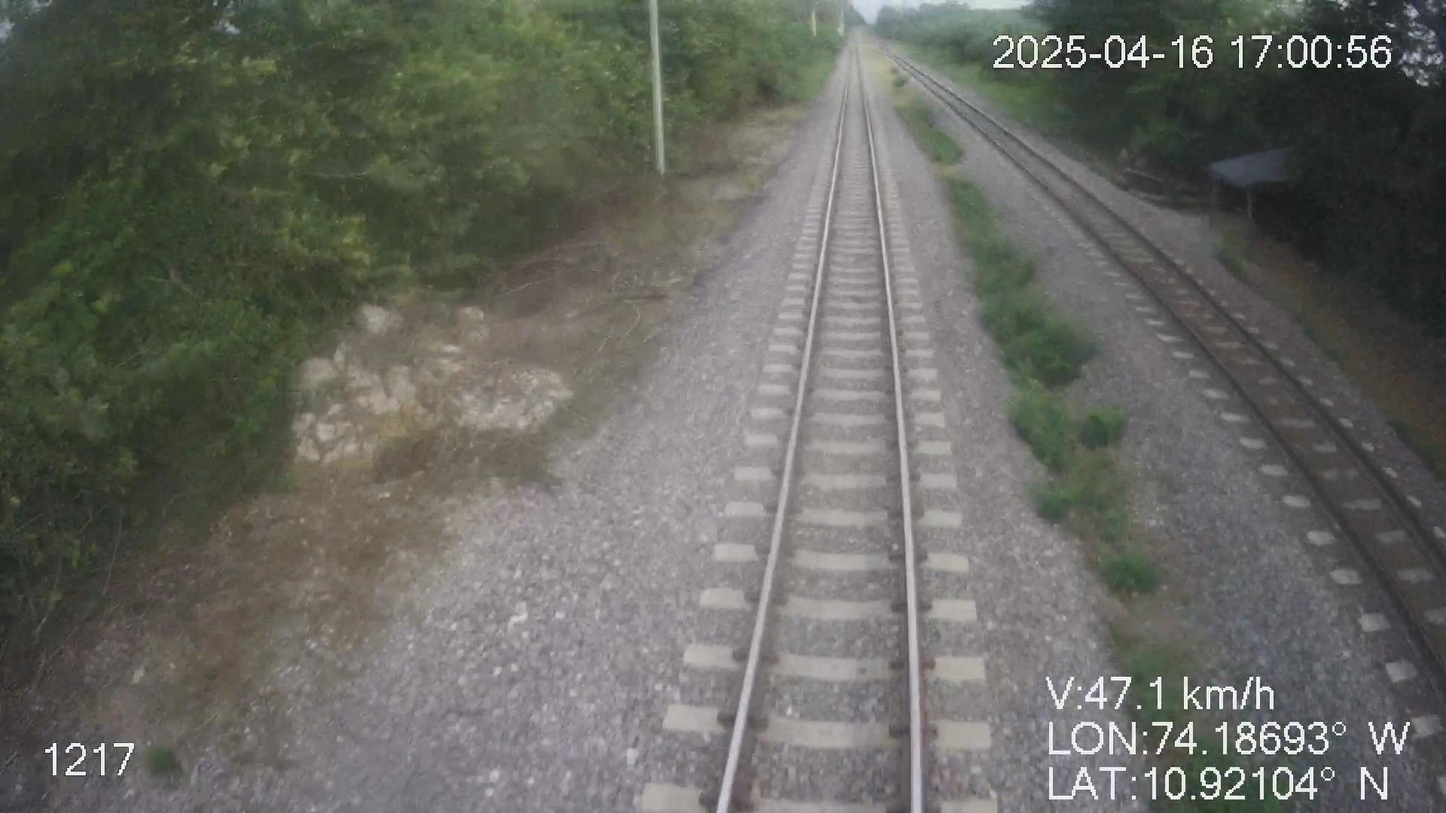Pasto: (0, 0, 845, 812), (862, 0, 1445, 358)
